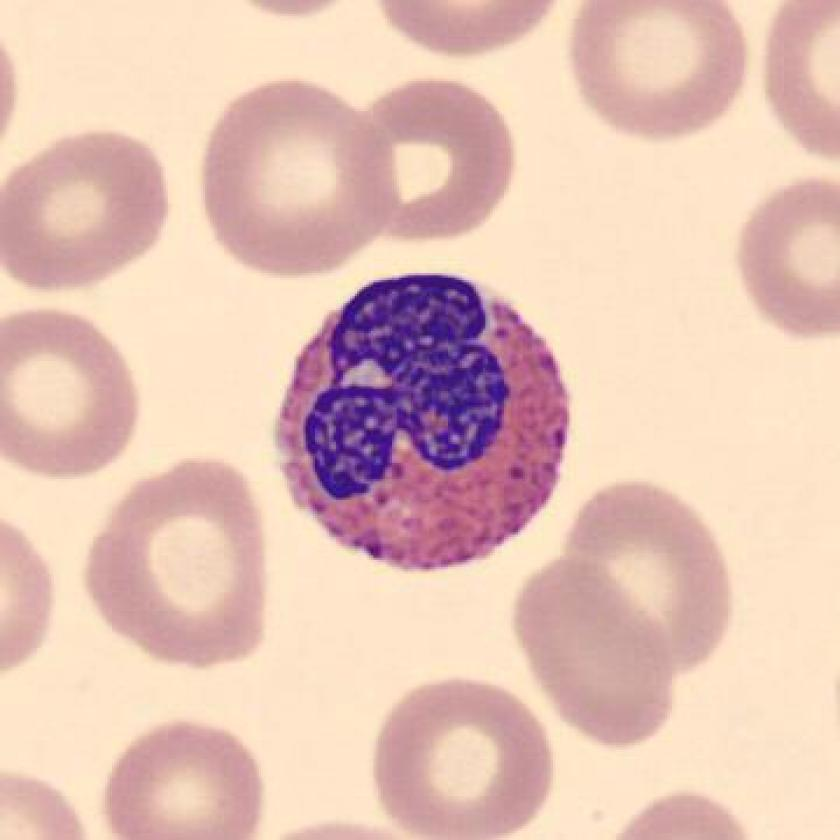eosinophil: (258, 258, 594, 589)
